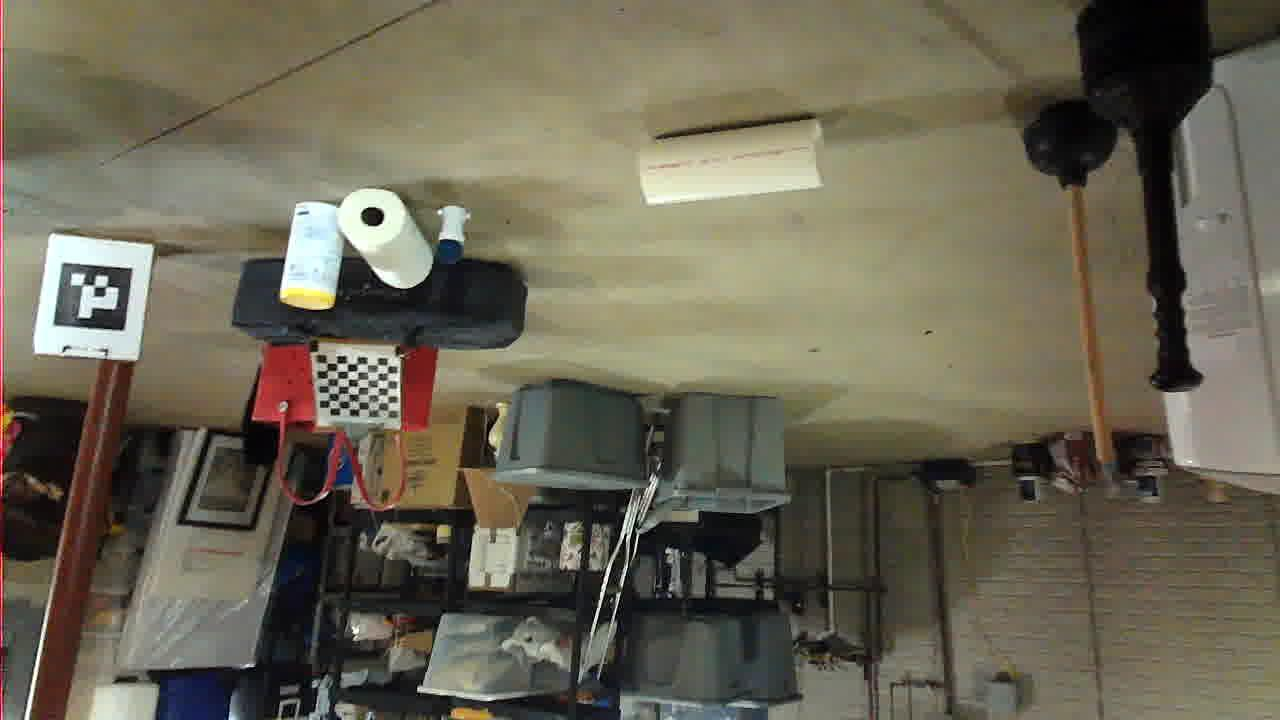coral: (454, 515, 642, 600)
